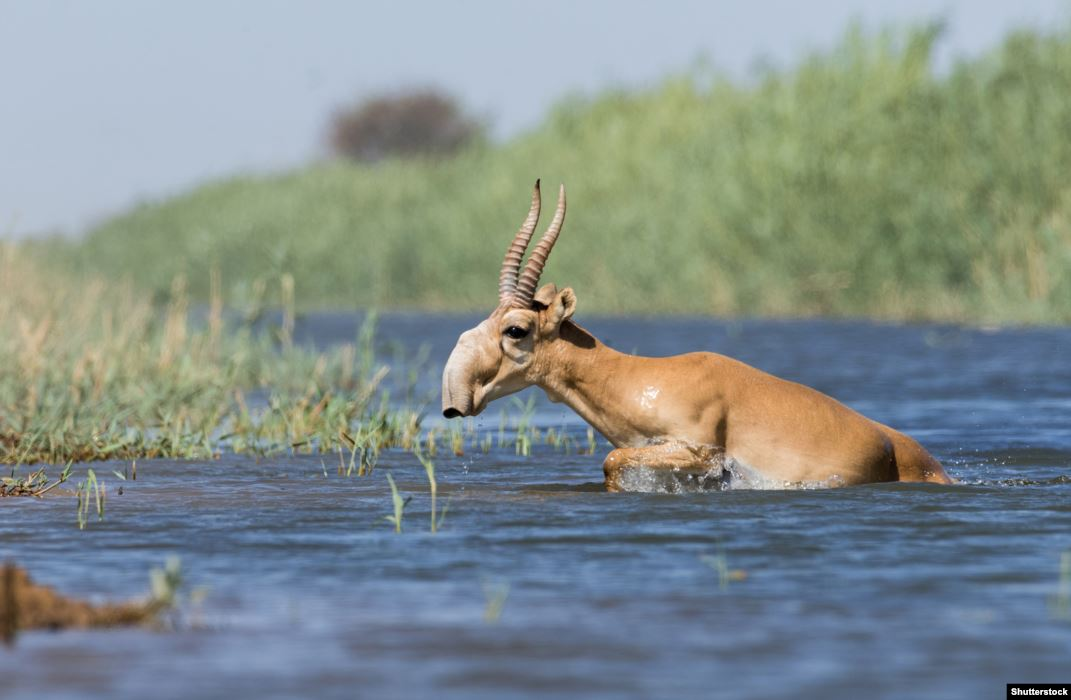saiga: (439, 178, 973, 499)
